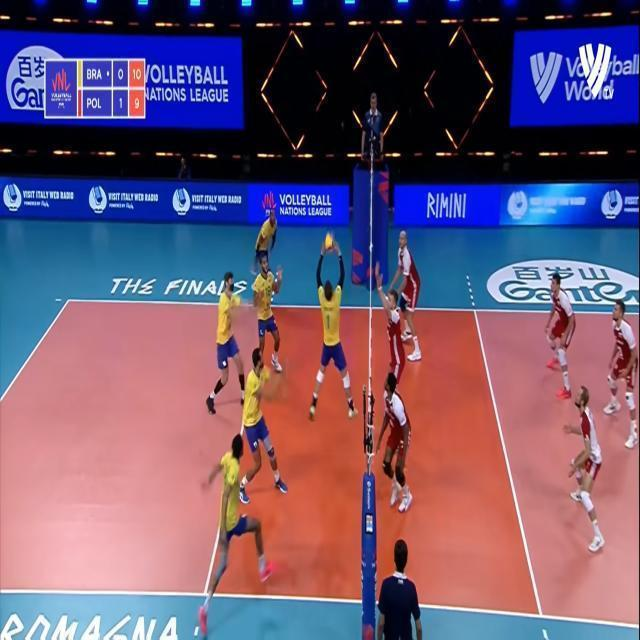volleyball: (321, 233, 336, 253)
